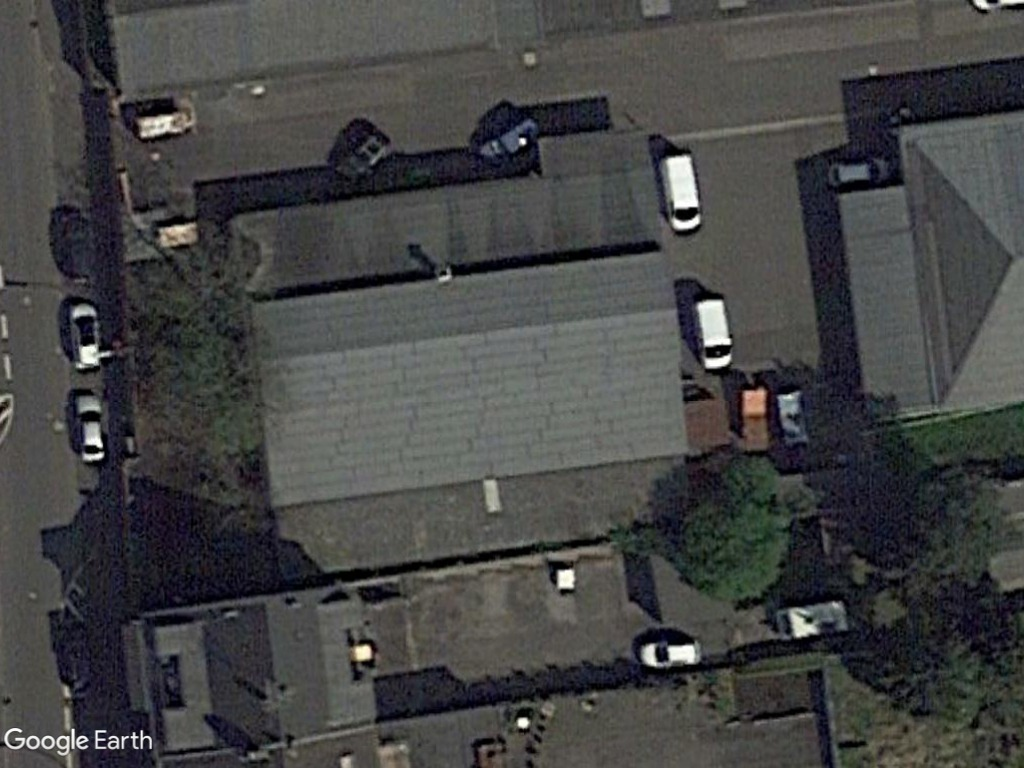car: (66, 385, 113, 471), (60, 293, 105, 375), (631, 630, 704, 674), (821, 152, 897, 193)
van: (650, 147, 703, 238), (687, 291, 740, 377)
